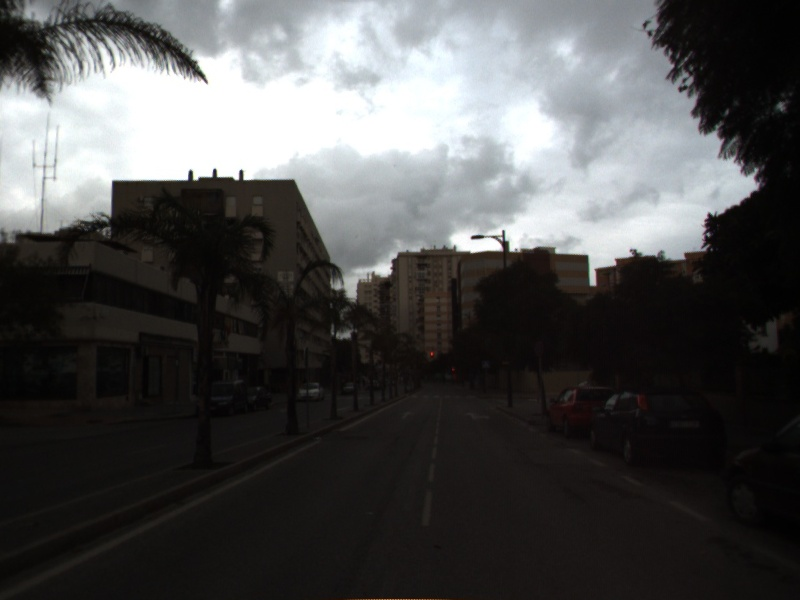STRAIGHT: (399, 409, 416, 421)
STRAIGHT_RIGHT: (463, 410, 492, 422)
